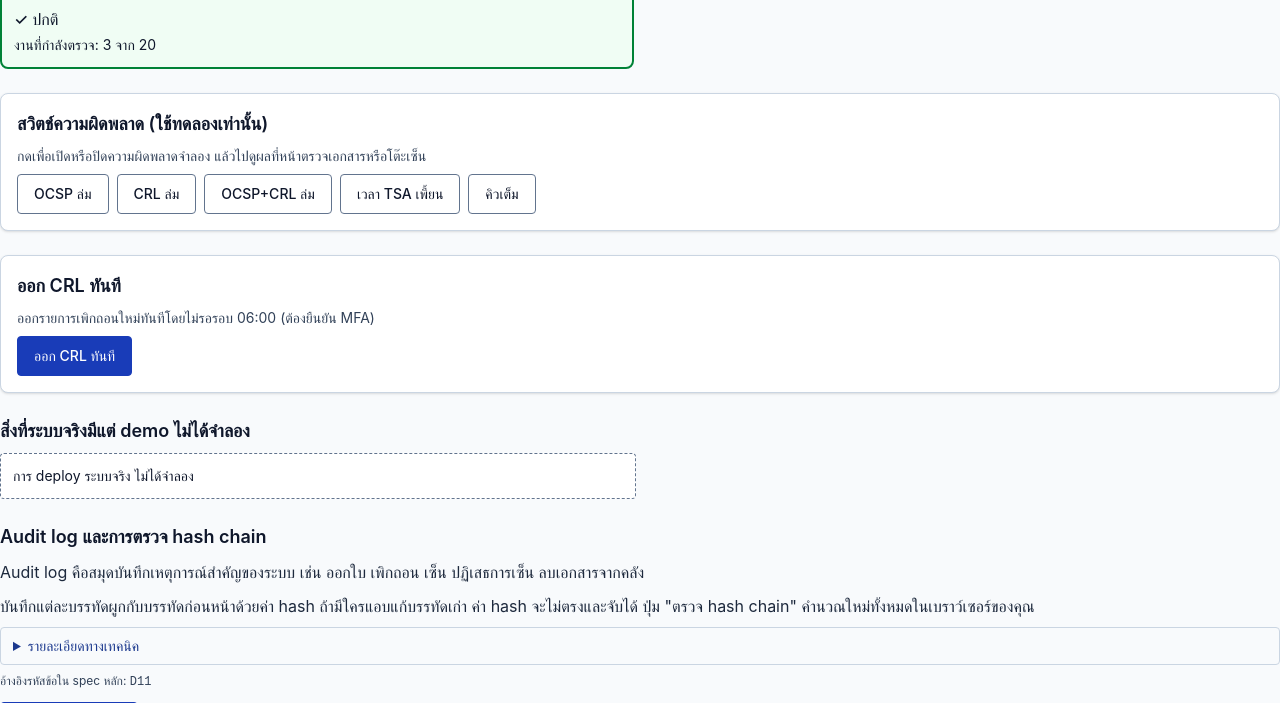
Test: /admin/status › a wrong MFA code keeps the dialog open with an error
(page scrolled)
Click the button with test id "admin-status-issue-crl" at (75, 356), box [17, 336, 132, 376]
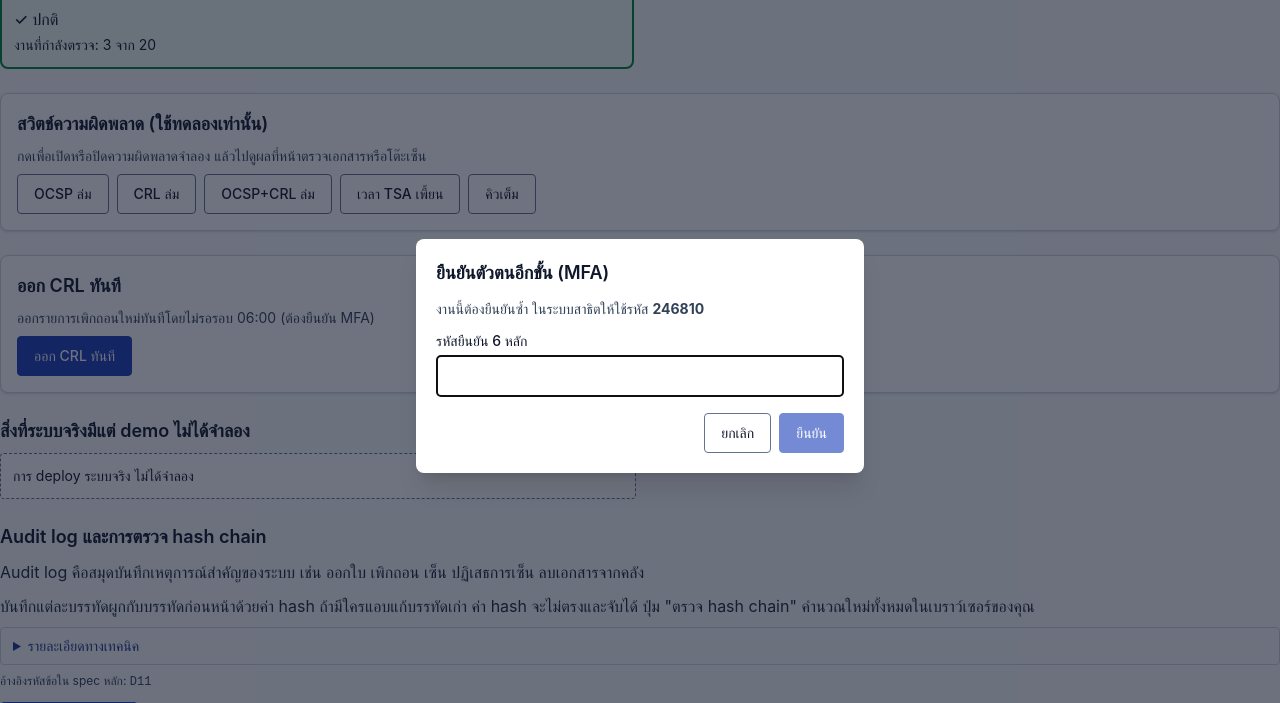
Type "000000" into the field with test id "mfa-input" at (640, 376), box [436, 355, 844, 397]
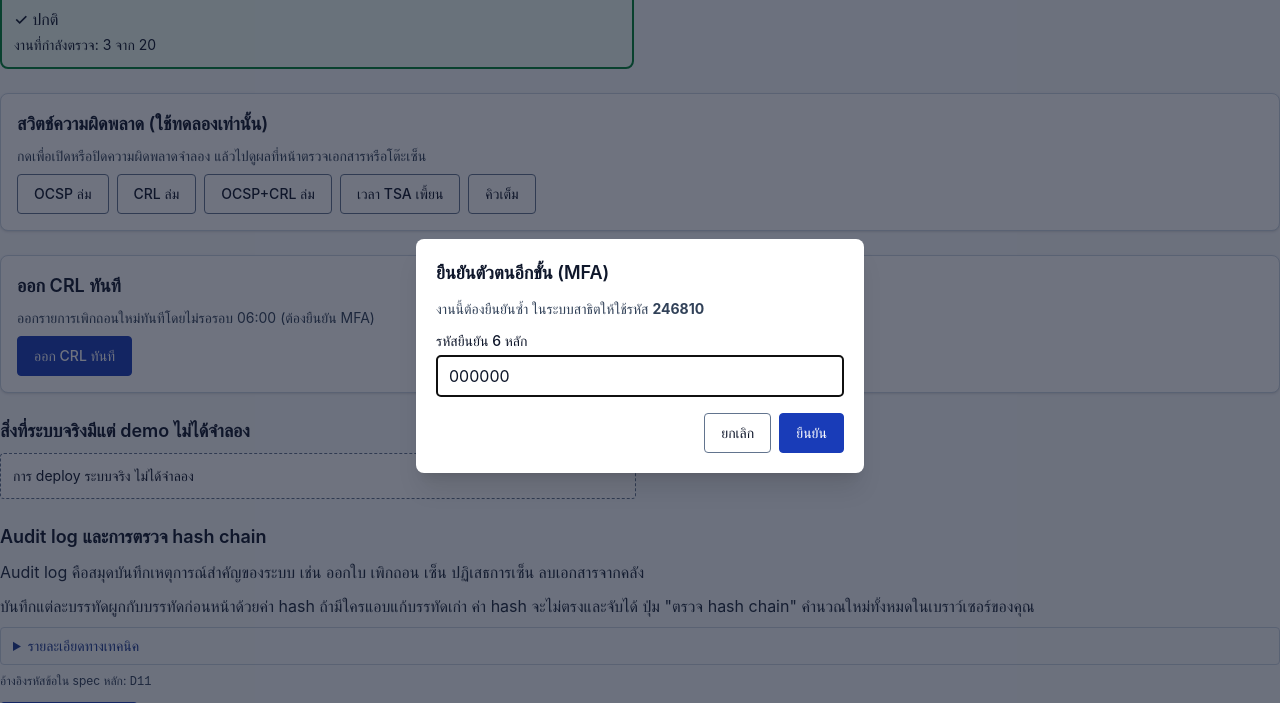
Click the button with test id "mfa-submit" at (812, 433), box [779, 413, 844, 453]
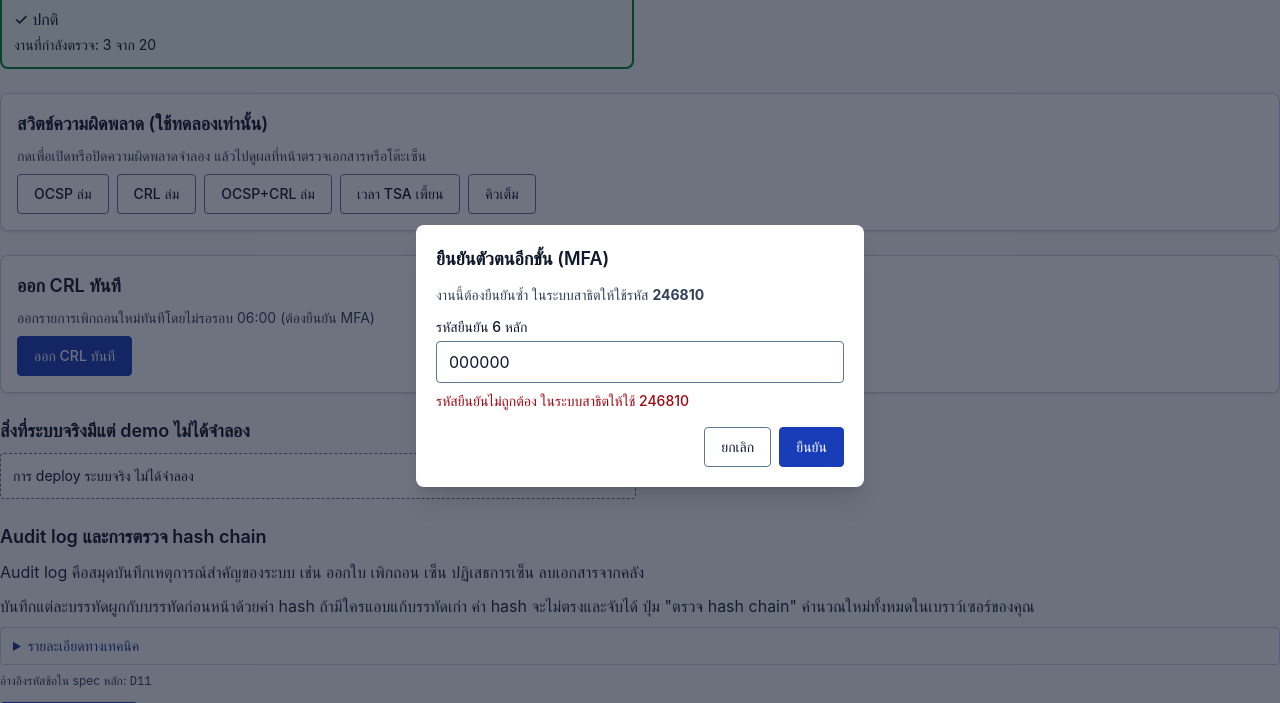
Result: the dialog with test id "mfa-dialog" is shown at [416, 225, 864, 487]
Result: the text "รหัสยืนยันไม่ถูกต้อง ในระบบสาธิตให้ใช้ 246810" is shown at [436, 392, 689, 409]
